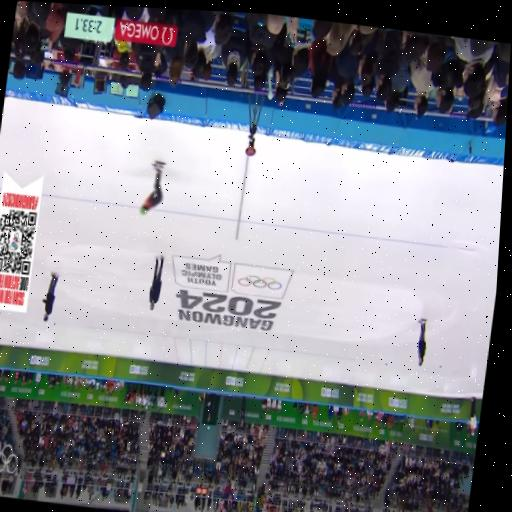Skater: (139, 162, 163, 214)
